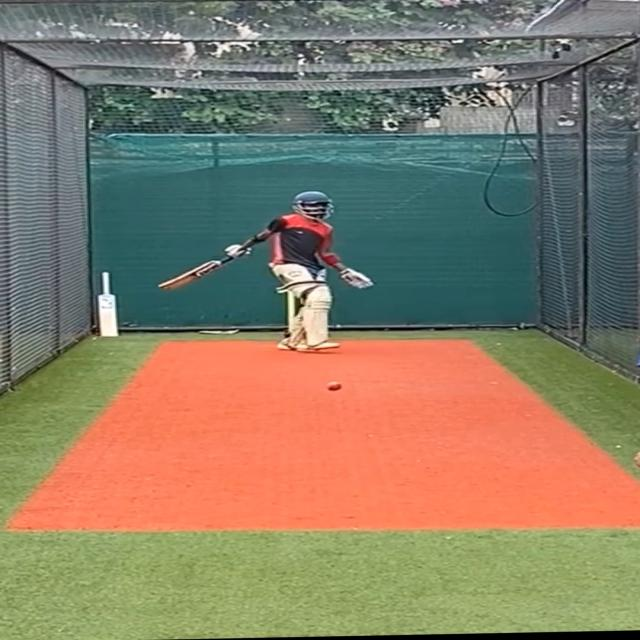ball: (324, 379, 346, 393)
